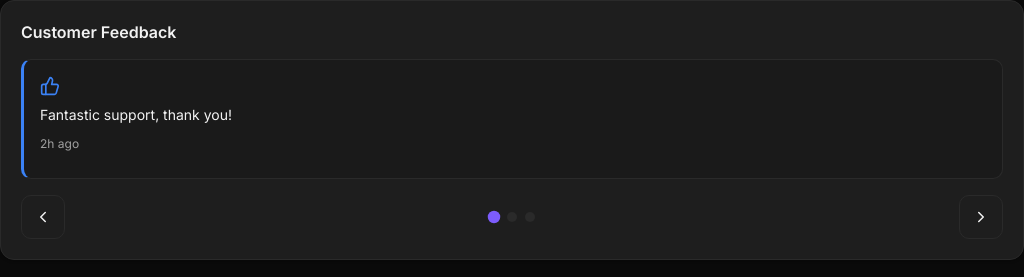
Test: CustomerFeedbackCarousel › wraps to the last item when going previous from the first
Step 1. Click the button named "Previous feedback" → (43, 217), box [21, 195, 65, 239]
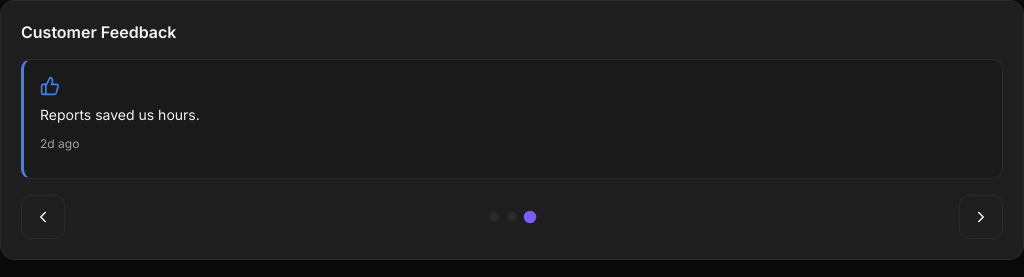
Now the text "Reports saved us hours." is shown, box [40, 106, 200, 123]
